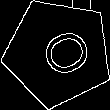O_SW: (26, 22, 90, 83)
